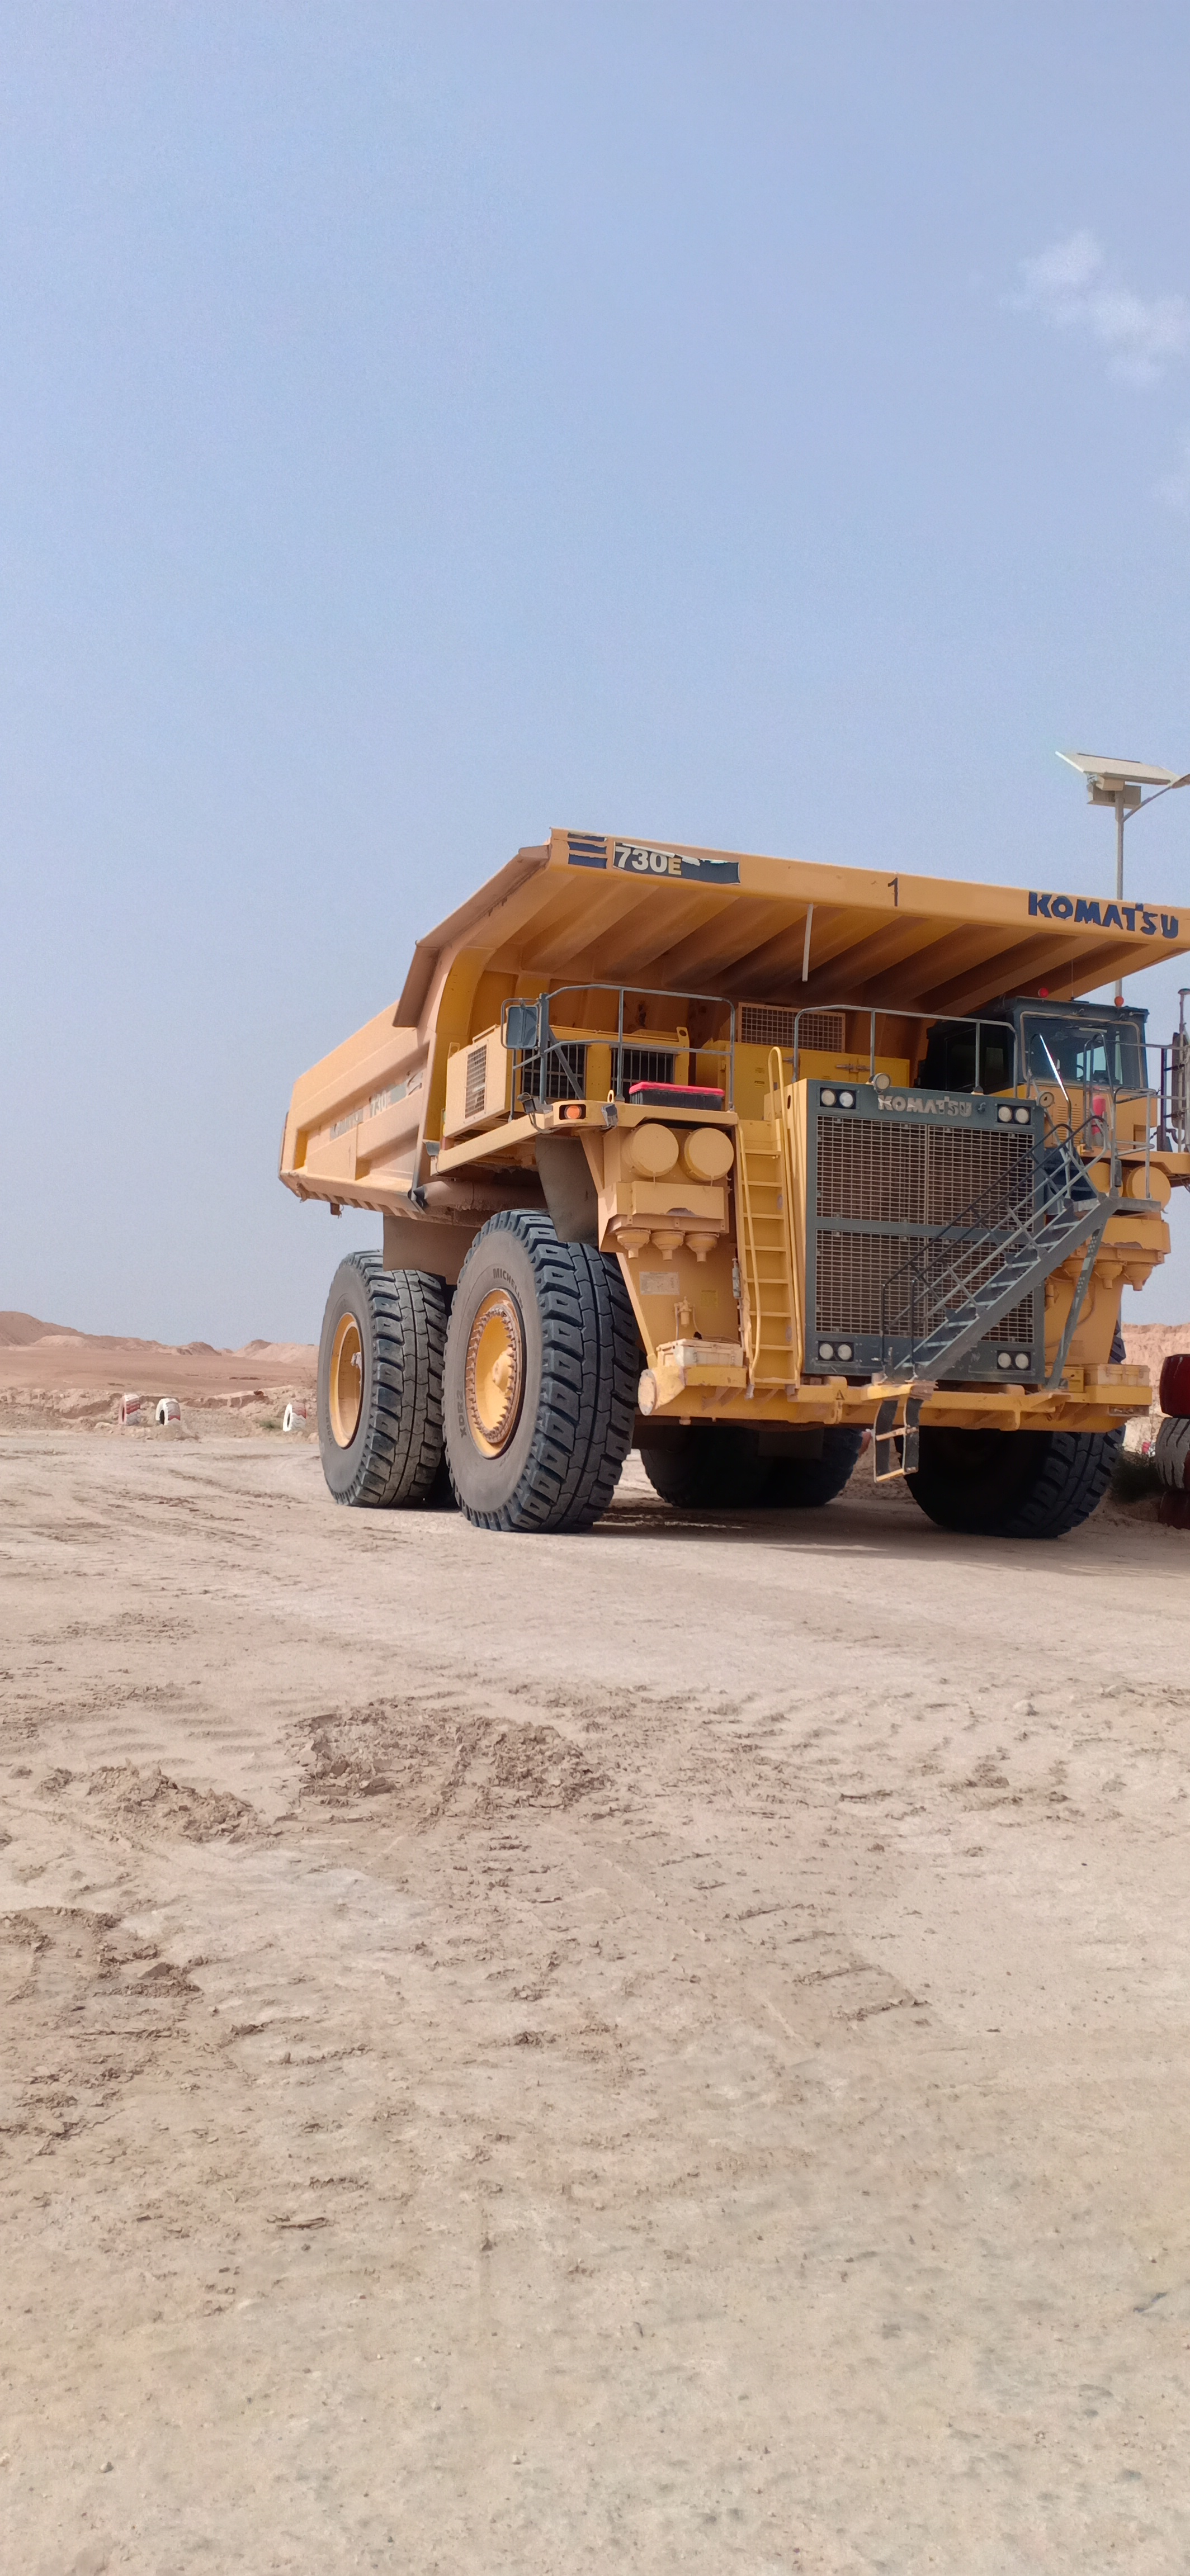camion: (219, 794, 1190, 1594)
